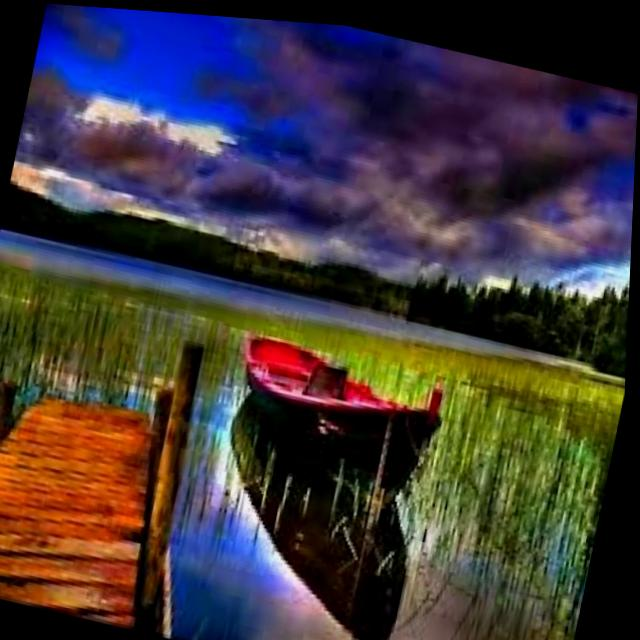ship2: (245, 333, 444, 475)
